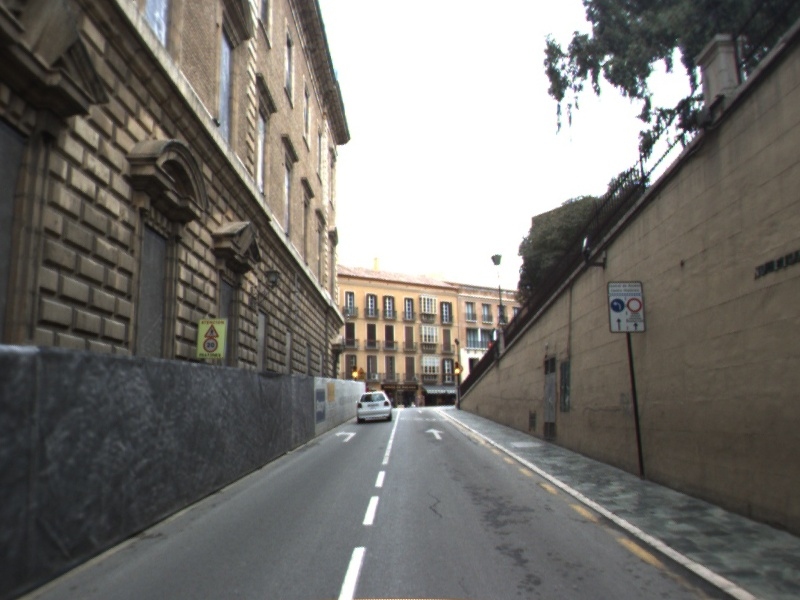LEFT: (333, 429, 358, 444)
STRAIGHT: (423, 426, 447, 441)
